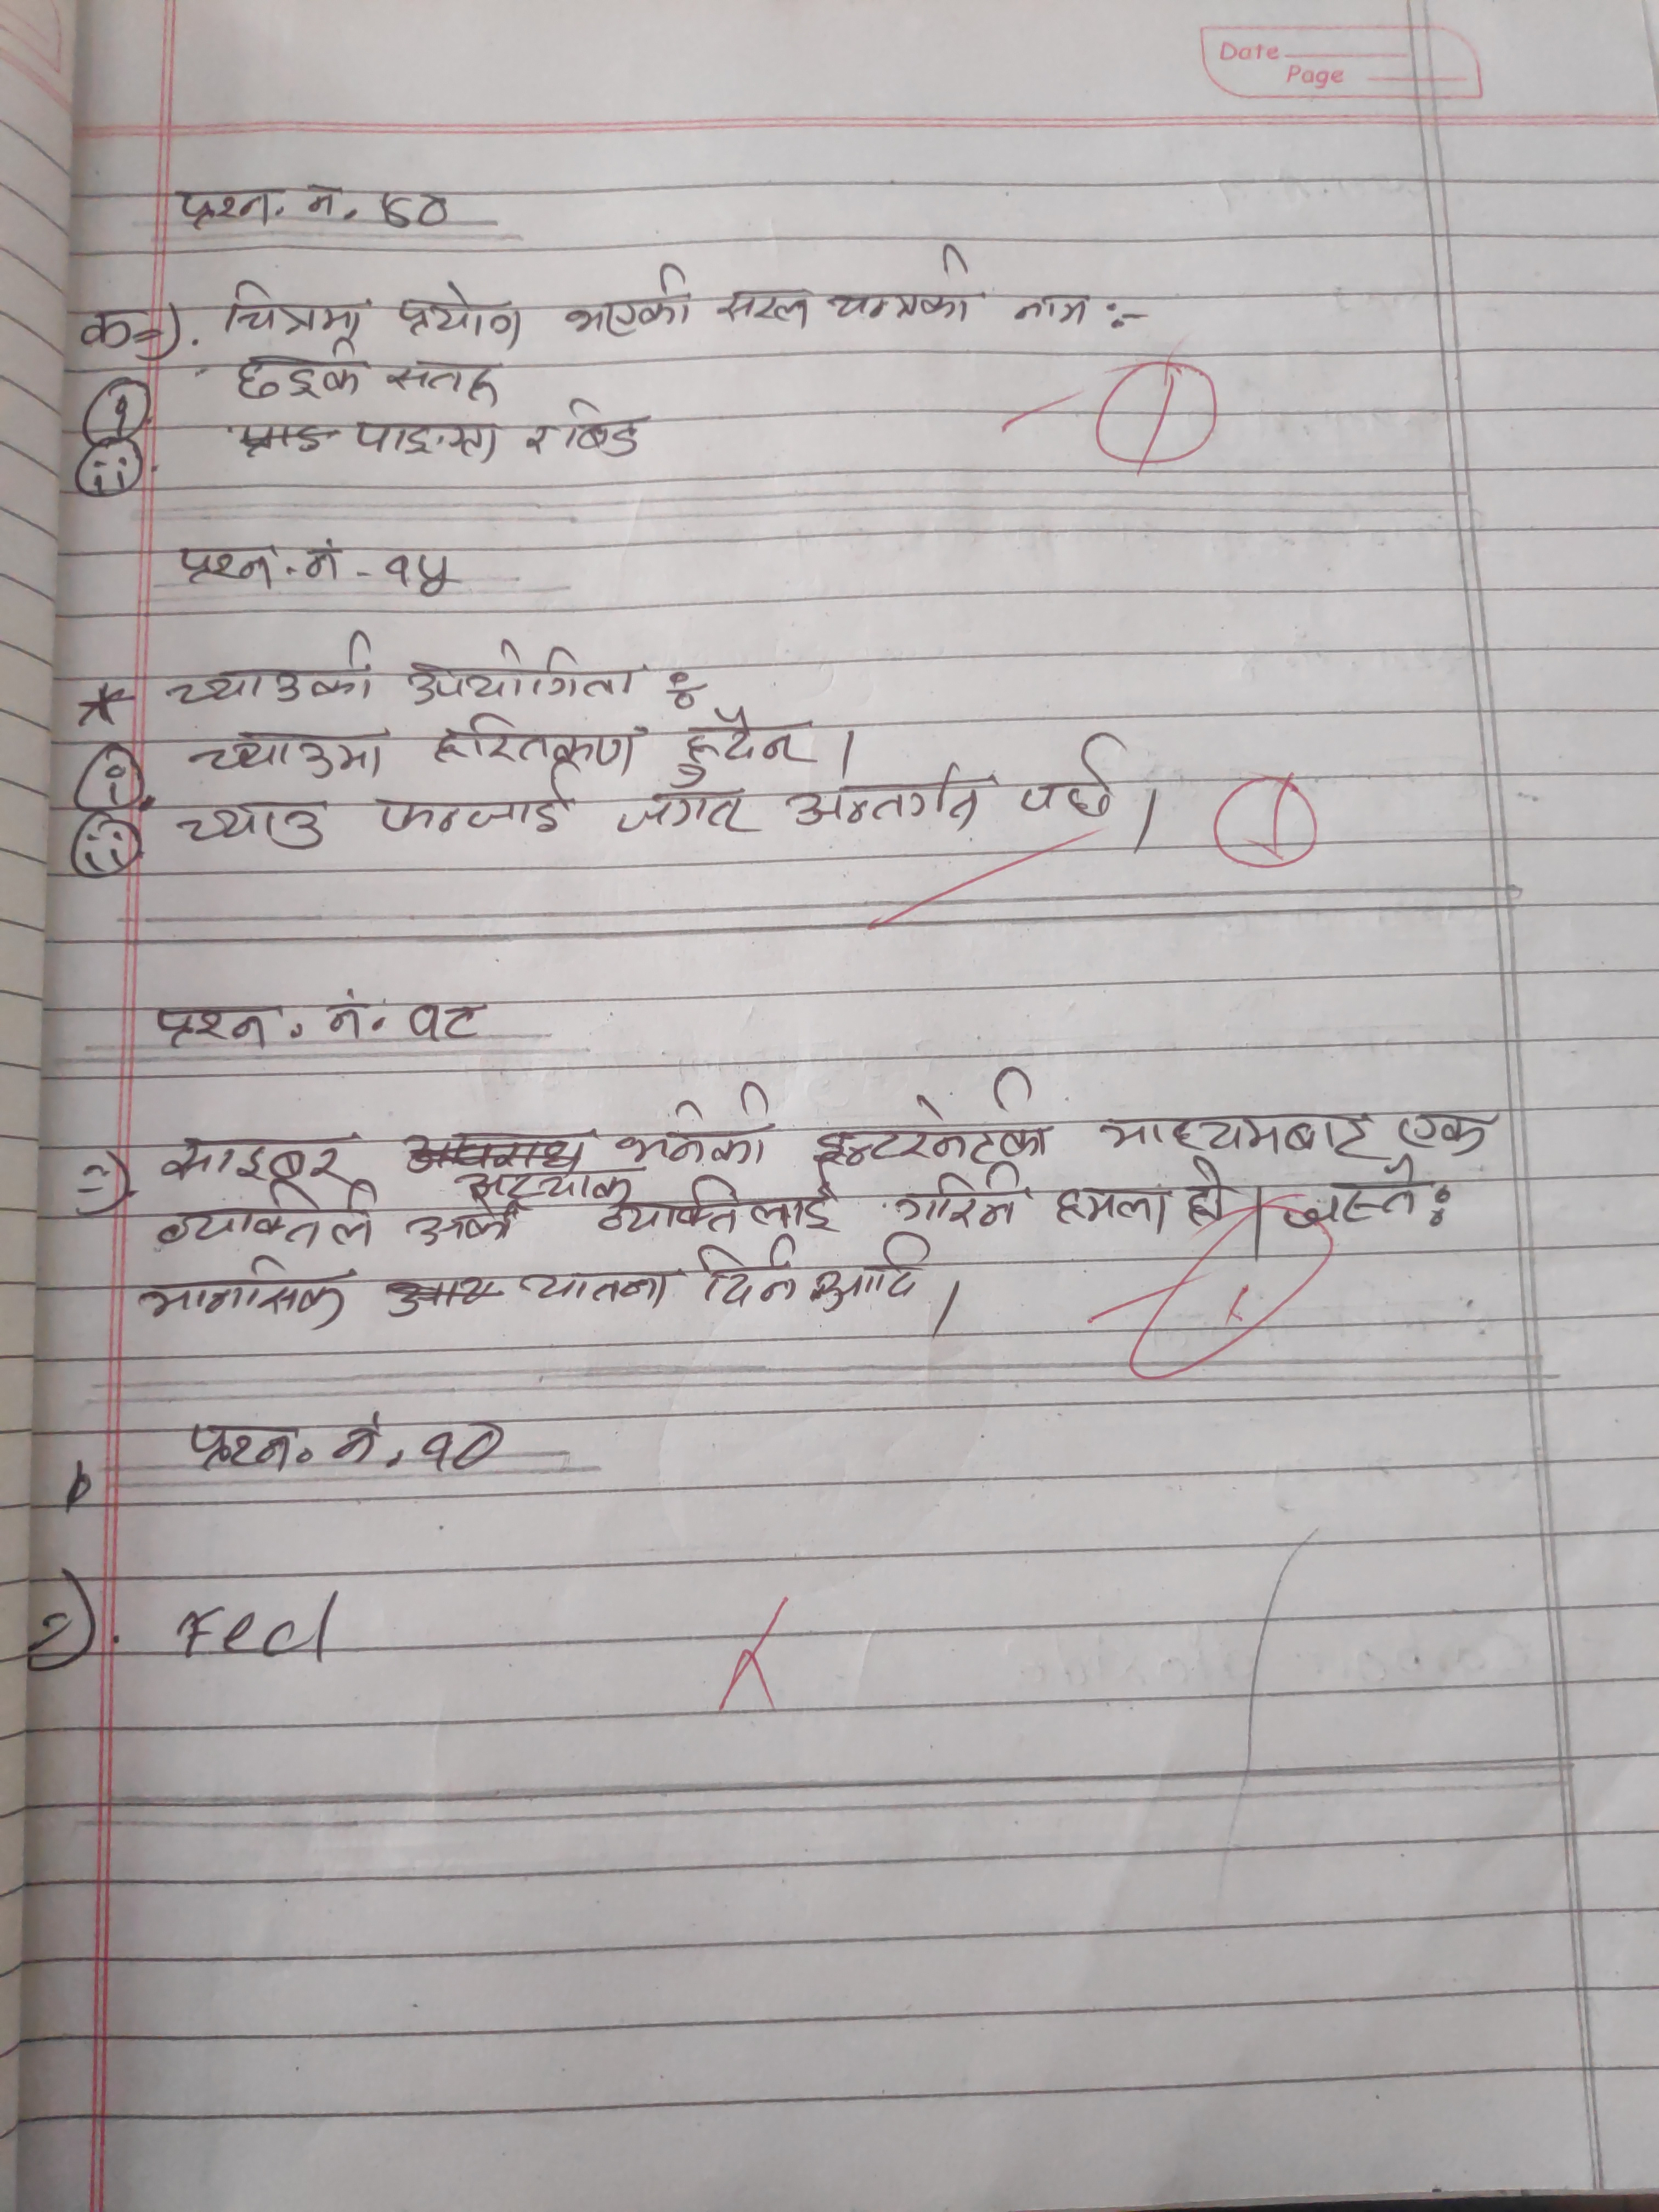text: (810, 1066, 1056, 1165), (136, 1249, 356, 1334), (162, 627, 380, 711), (153, 1183, 380, 1256), (366, 768, 577, 845), (1089, 1109, 1385, 1163), (399, 637, 647, 702), (823, 237, 983, 333), (598, 1176, 838, 1238), (782, 763, 983, 836), (615, 1078, 772, 1170), (430, 709, 648, 773), (666, 698, 816, 784), (1274, 1155, 1427, 1233), (157, 1127, 364, 1183), (192, 725, 394, 780), (807, 1230, 936, 1317), (559, 261, 697, 341), (1016, 726, 1127, 820), (218, 275, 373, 340), (683, 1233, 807, 1313), (394, 277, 528, 348), (890, 1163, 1030, 1231), (173, 796, 326, 857), (612, 775, 765, 836), (512, 1259, 685, 1312), (352, 406, 498, 467), (234, 341, 371, 404), (179, 1418, 310, 1482), (1049, 1172, 1176, 1235), (380, 348, 505, 408), (408, 1190, 525, 1251), (552, 390, 650, 462), (146, 1000, 277, 1050), (169, 540, 281, 597), (176, 178, 286, 232), (713, 280, 816, 334), (1394, 1101, 1497, 1155), (418, 1414, 502, 1475), (380, 543, 465, 599), (371, 183, 462, 235), (404, 998, 491, 1050), (1183, 1160, 1236, 1231), (71, 296, 138, 348), (333, 1420, 390, 1477), (1004, 291, 1094, 326), (322, 989, 373, 1040), (298, 538, 352, 585), (301, 167, 342, 223), (523, 413, 554, 465)
